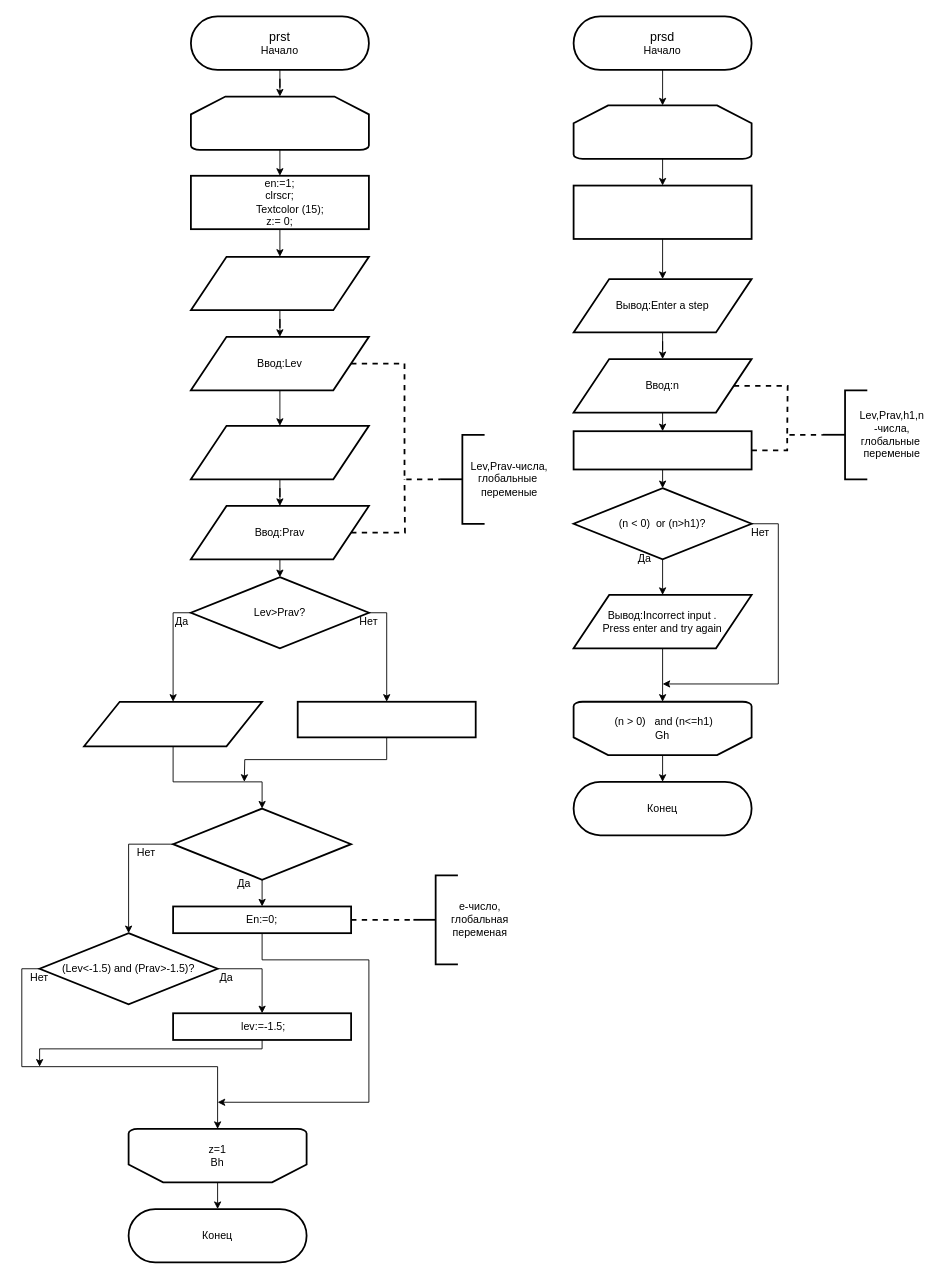
This 948x1278 diagram has some shape labels left out. The shapes that lost their labels are listed below. From the top down, each one's centre as x and y in pixels, then its label:
At (279,122): "Bh".
At (662,131): "Gh".
At (662,211): "clrscr; z:= 0; Textcolor (15);".
At (279,283): "Вывод:Enter the left border".
At (279,452): "Вывод:Enter the right border".
At (662,450): "h1:=(Prav - Lev)".
At (173,723): "Вывод: Entered is not correct".
At (386,719): "z:= 1".
At (262,843): "(Lev<-1.5) and (Prav<=-1.5)?".
